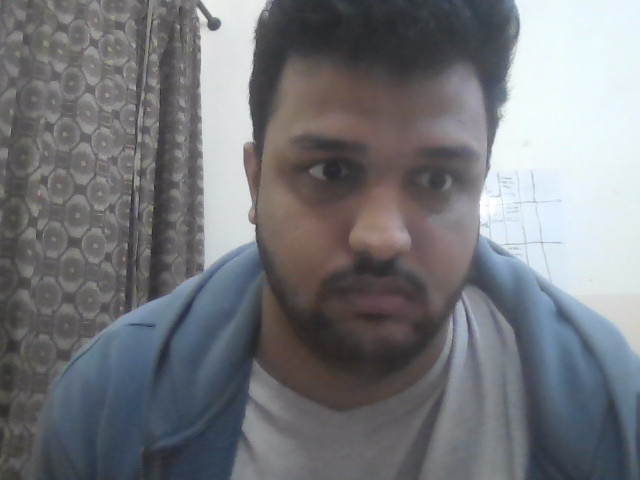awake: (178, 21, 598, 345)
